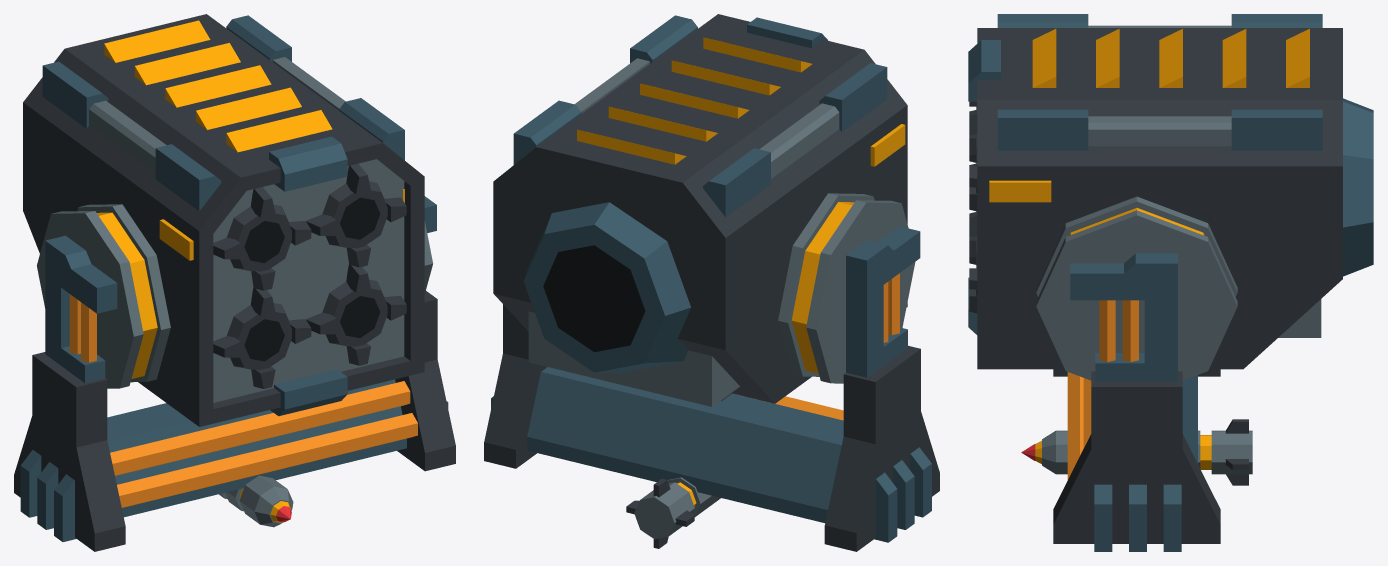
Rendered from prop48.FBX.
3 views of the same model, side by side, from view 1: azimuth 30°, elevation 25°; view 2: azimuth 150°, elevation 25°; view 3: azimuth 270°, elevation 25° (orthographic). The views are drawn at different scales.
Parts seen in each view (by area): view 1: prop48_body, prop48_support, prop48_missile; view 2: prop48_body, prop48_support, prop48_missile; view 3: prop48_body, prop48_support, prop48_missile.
Boxes of the visible parts, x1,y1,x2,y2 form: prop48_body: [23, 14, 424, 426]; prop48_support: [14, 196, 455, 551]; prop48_missile: [219, 475, 293, 527]; prop48_body: [493, 14, 907, 406]; prop48_support: [484, 193, 939, 551]; prop48_missile: [626, 477, 720, 548]; prop48_body: [968, 14, 1373, 369]; prop48_support: [1036, 196, 1237, 551]; prop48_missile: [1021, 419, 1252, 485].
Bounding box in the file's own units: 9.13 × 9.42 × 8.01.
